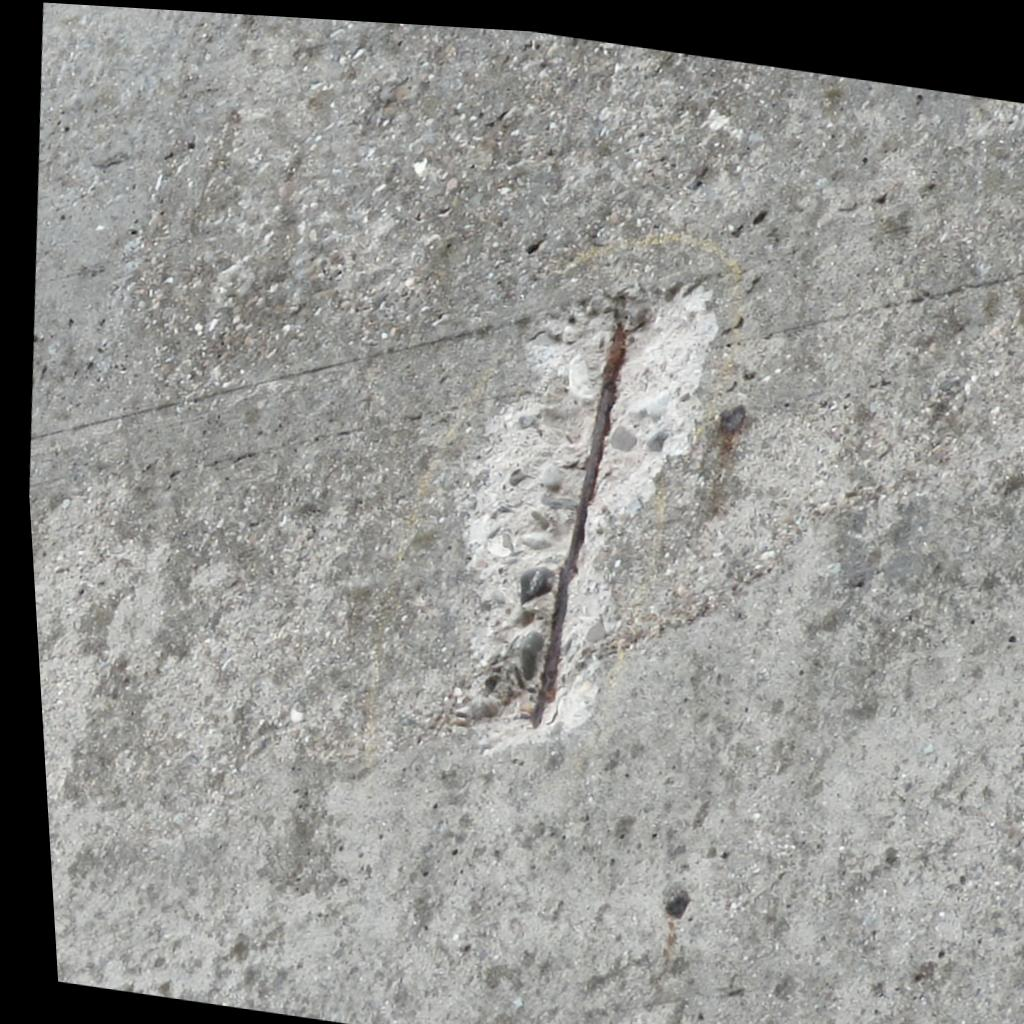exposed_rebar: (531, 319, 627, 726)
spalling: (451, 285, 717, 724)
